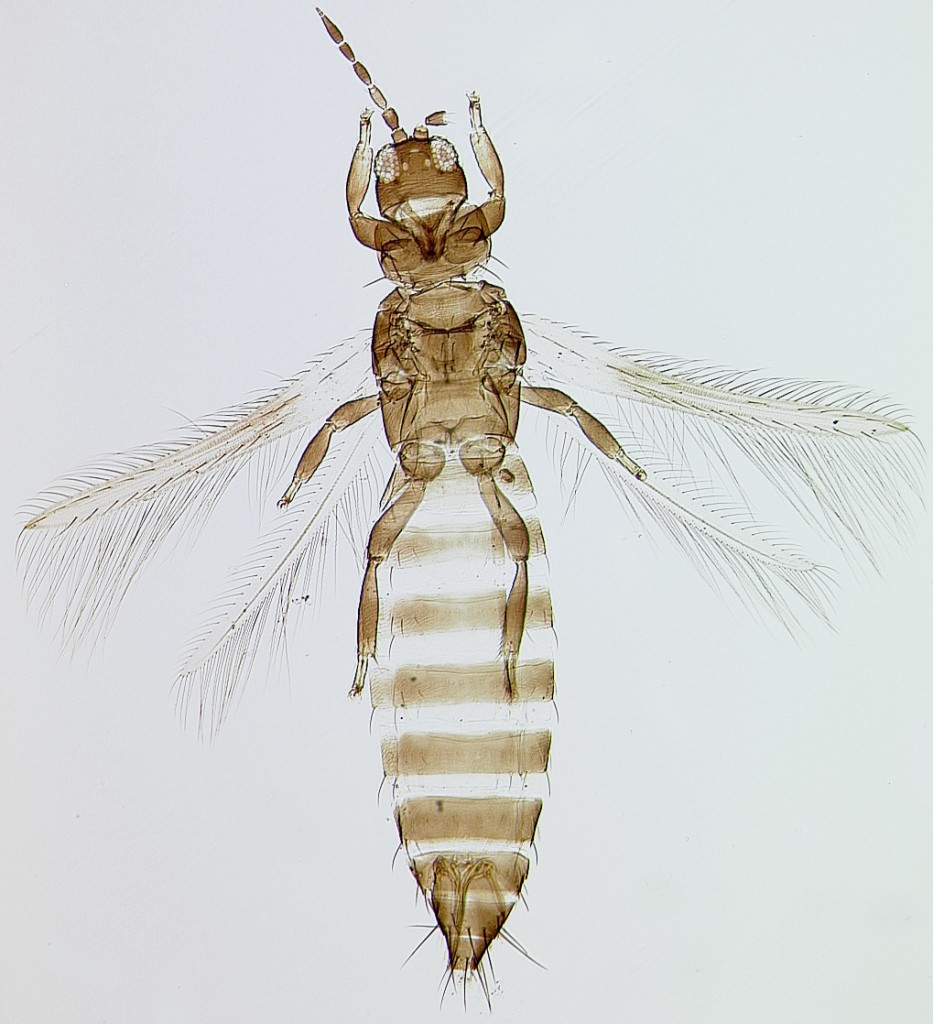Thripidae: (35, 13, 923, 1007)
